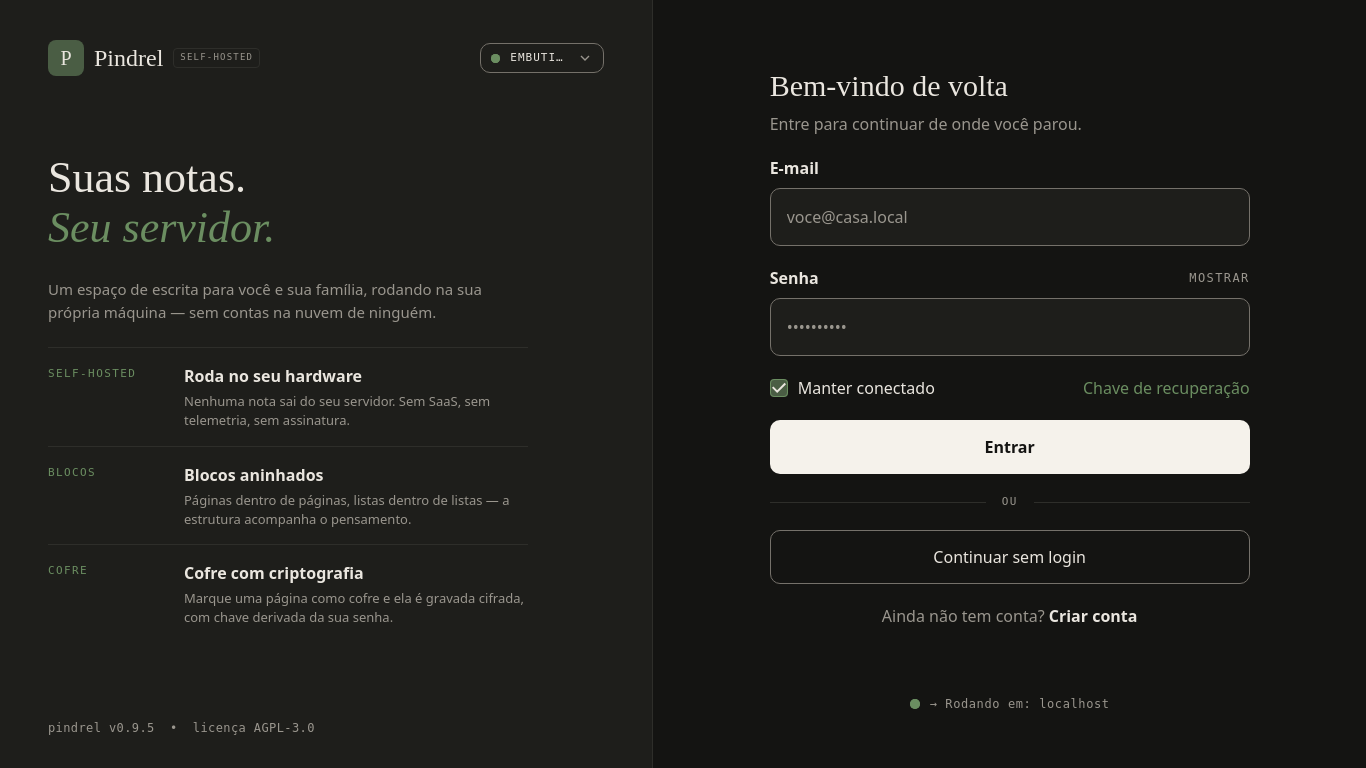
Scenario: App — painel e editor › "Continuar sem login" leva ao painel de notas
This screenshot has width=1366, height=768.
What coordinates should you click on to do the following:
click the button "Continuar sem login"
I would click on:
 (1010, 557)
Its box is [770,530,1250,584].
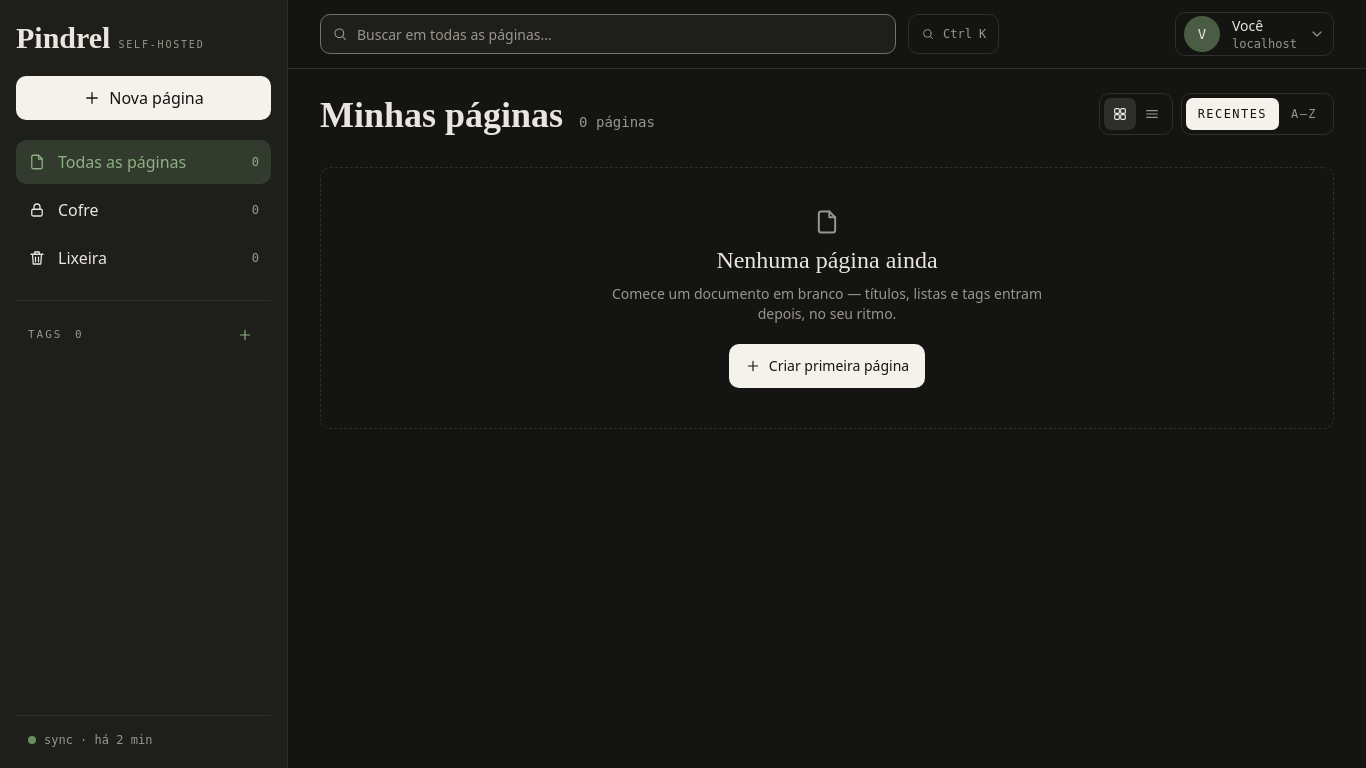
Expected: the heading "Minhas páginas" is shown, [320,95,563,135]
